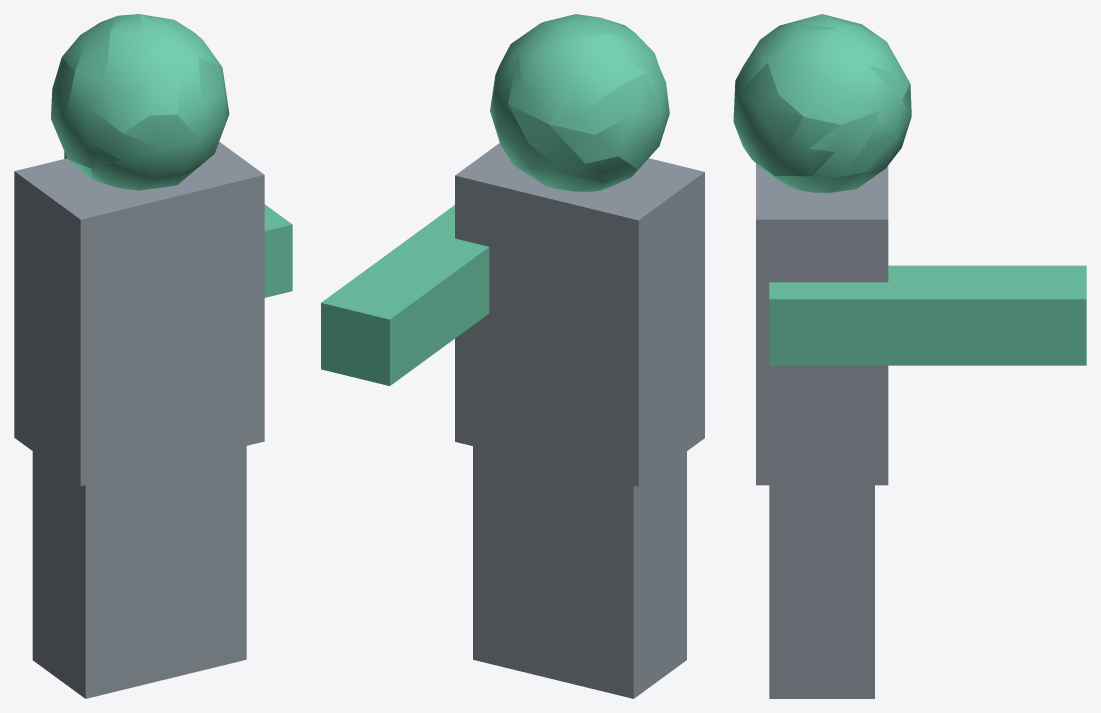
Rendered from CO_Hero_Mei_LOD2.glb.
3 renders of one model, left to right at view 1: azimuth 30°, elevation 25°; view 2: azimuth 150°, elevation 25°; view 3: azimuth 270°, elevation 25°, orthographic.
Parts seen in each view (by area): view 1: Head; view 2: Head; view 3: Head.
Boxes of the visible parts, box(x1,y1,x2,y2) form: Head: box(14, 14, 292, 698); Head: box(321, 14, 704, 698); Head: box(733, 14, 1086, 698).
Bounding box in the file's own units: 61.75 × 172 × 86.81.
